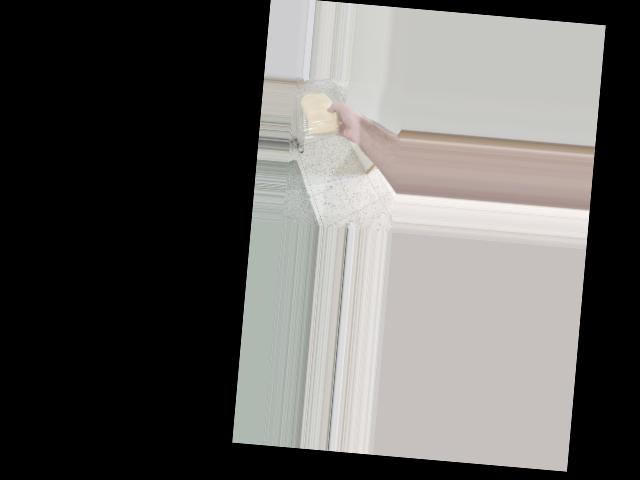cheese: (294, 88, 343, 141)
